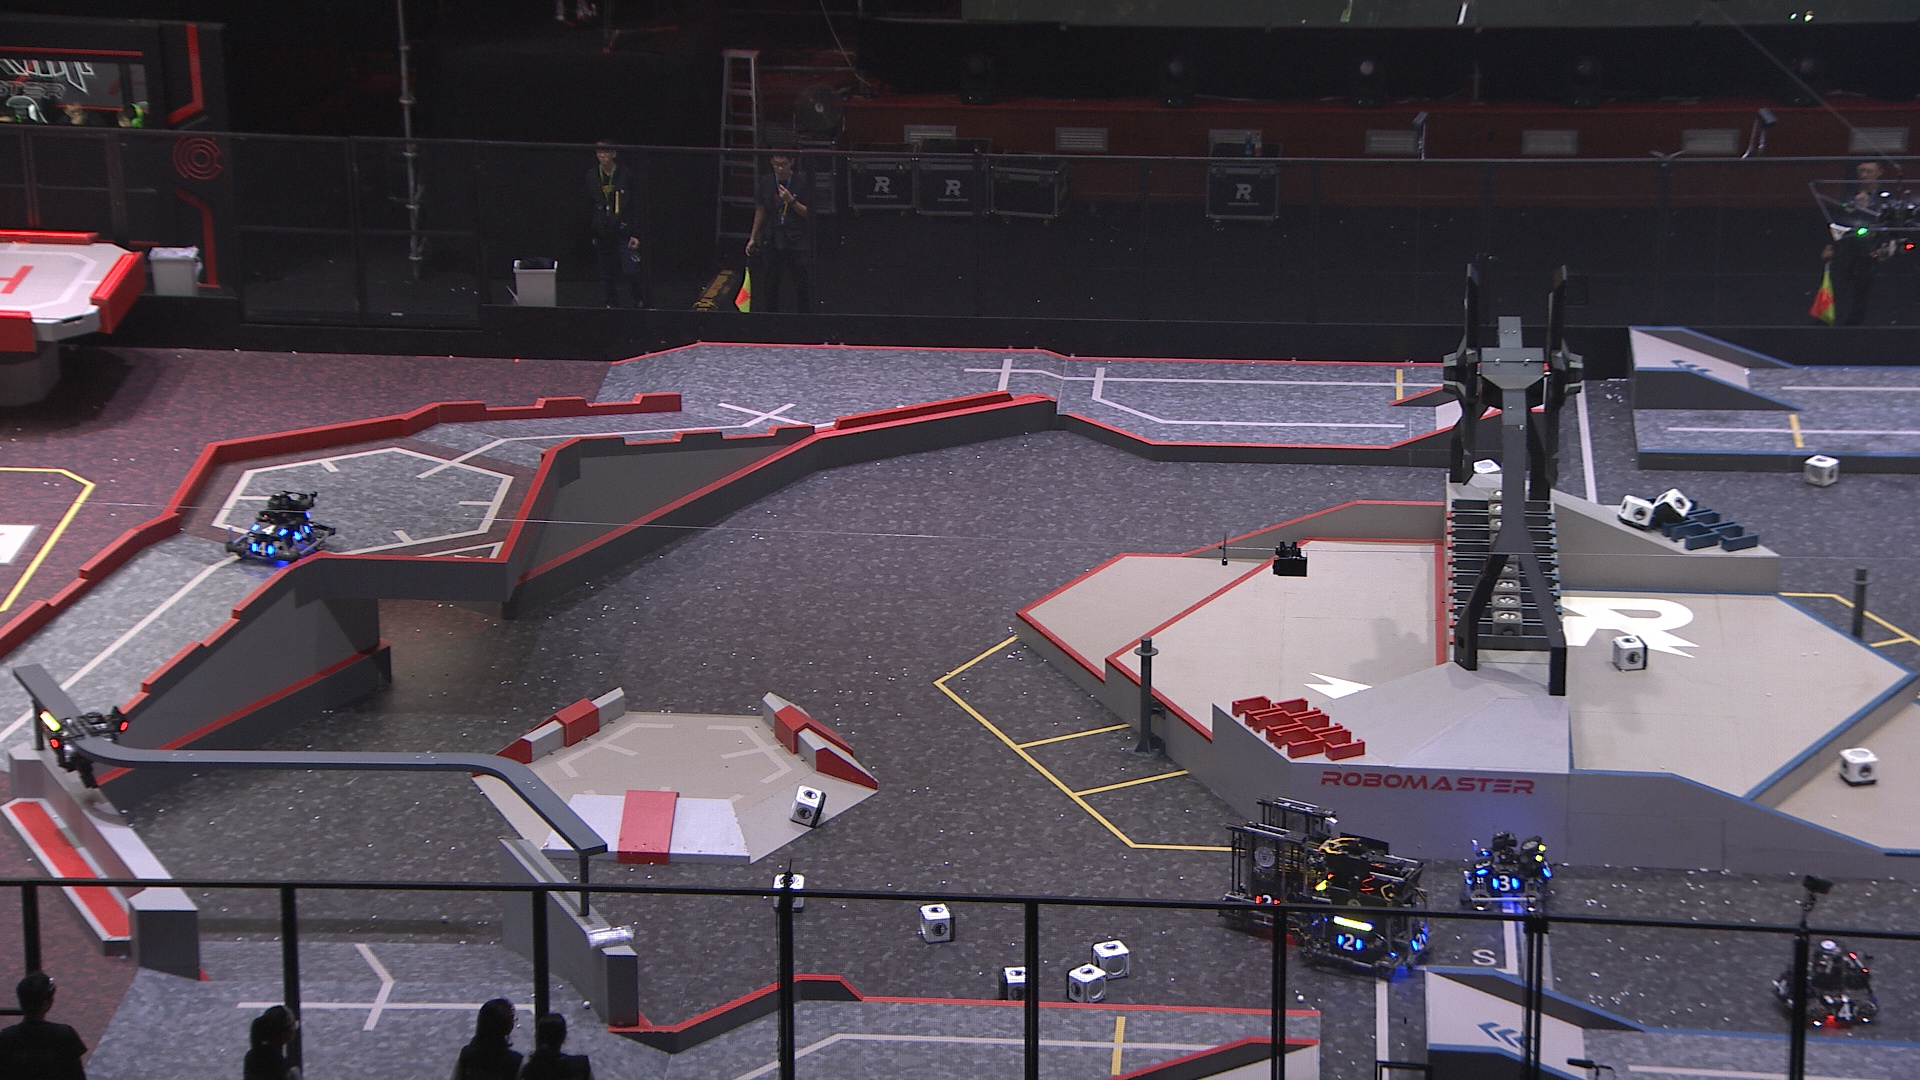armor: (251, 520, 289, 538), (1335, 932, 1365, 953), (40, 723, 61, 752), (1251, 891, 1280, 910), (1833, 1002, 1858, 1022), (251, 541, 276, 559), (1775, 975, 1792, 1001), (1411, 928, 1428, 953), (1490, 876, 1519, 889), (1472, 858, 1491, 877), (291, 522, 311, 541), (1538, 858, 1555, 880)
car: (1298, 828, 1436, 975), (1222, 798, 1342, 934), (1770, 935, 1884, 1029), (219, 484, 340, 564), (1461, 828, 1557, 916)
watcher: (36, 705, 131, 789)
